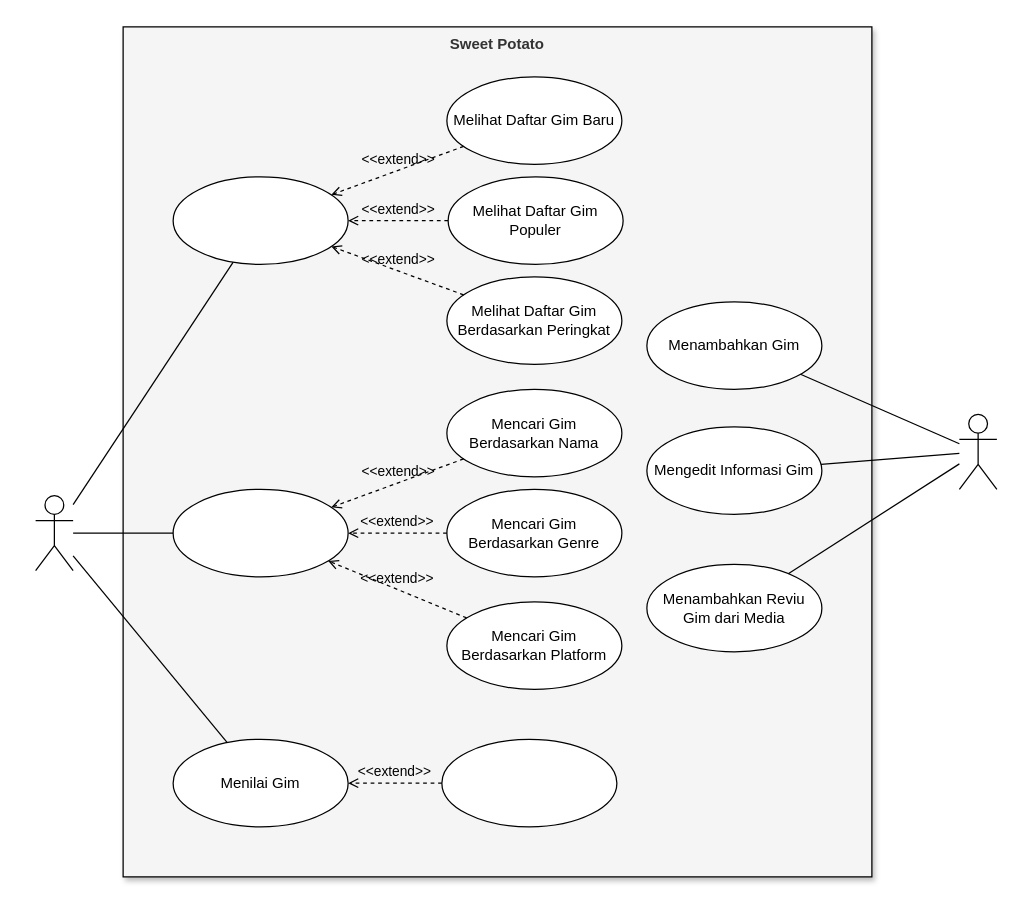
This 1023x908 diagram has some shape labels left out. Here are the shapes that lost their labels. From the top down, the centre of each, then its label:
point (260, 220): Melihat Daftar Gim
point (977, 451): Admin
point (53, 532): End User
point (260, 532): Mencari Gim
point (529, 782): Mereviu Gim
